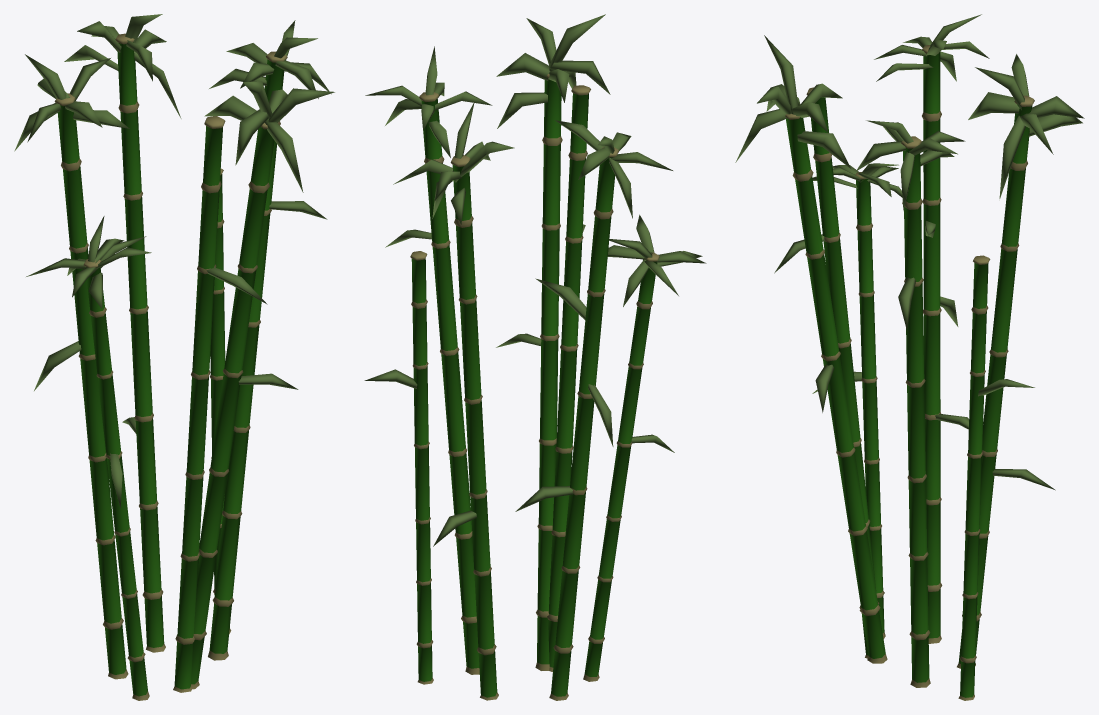
File: Bambo_1.fbx
The picture shows the model from 3 angles, left to right: view 1: azimuth 30°, elevation 25°; view 2: azimuth 150°, elevation 25°; view 3: azimuth 270°, elevation 25°; orthographic projection. The views are drawn at different scales.
Parts seen in each view (by area): view 1: Bambo_1; view 2: Bambo_1; view 3: Bambo_1.
Boxes of the visible parts, x1,y1,x2,y2 form: Bambo_1: [14, 14, 334, 700]; Bambo_1: [364, 14, 706, 700]; Bambo_1: [735, 14, 1084, 700].
Size of the model in its own units: 1.29 by 2.58 by 1.31.
